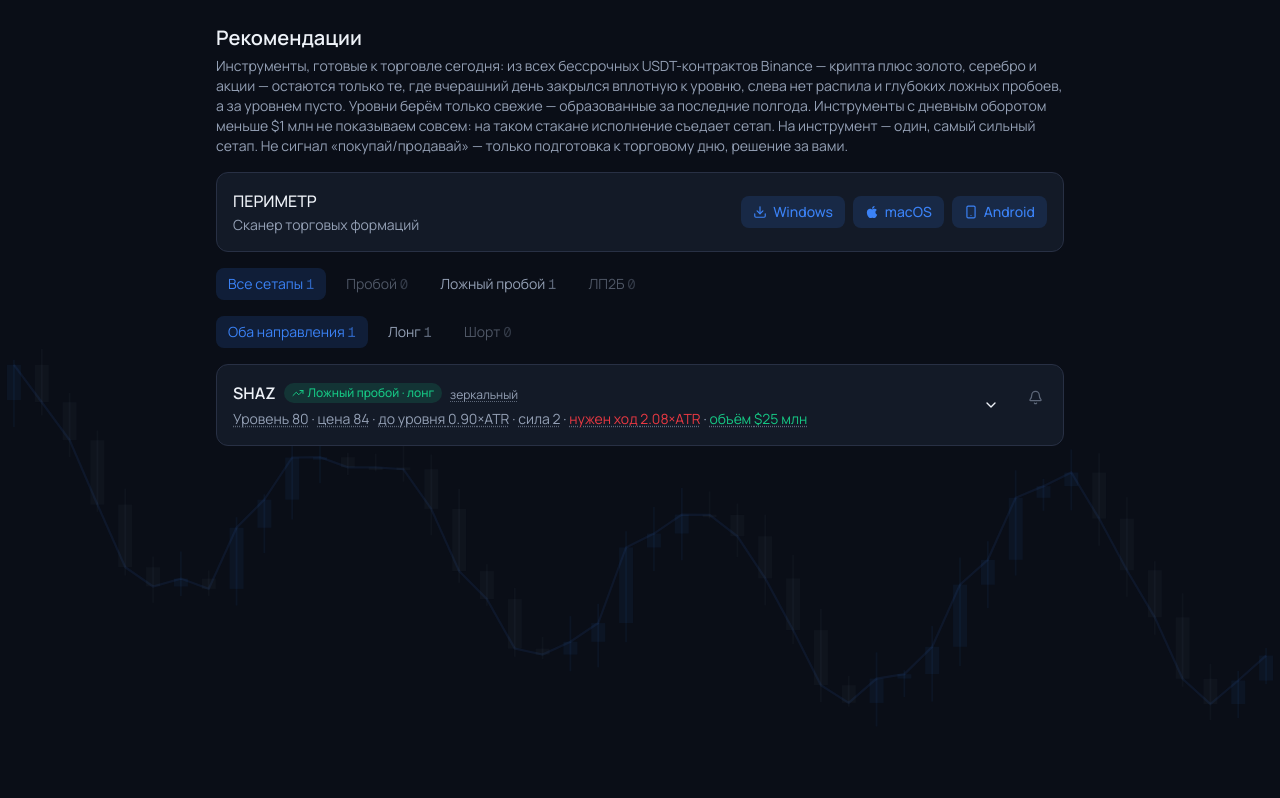
expanded setup card › shows yesterday's pierce instead of claiming there were no false breakouts
This screenshot has width=1280, height=798.
Check: the text "Ложный пробой · лонг" is shown, box top-left (284, 383), bottom-right (442, 403)
What coordinates should you click on to do the following:
click the text "SHAZ"
I would click on:
 (254, 393)
Its box is top-left (233, 381), bottom-right (276, 405).
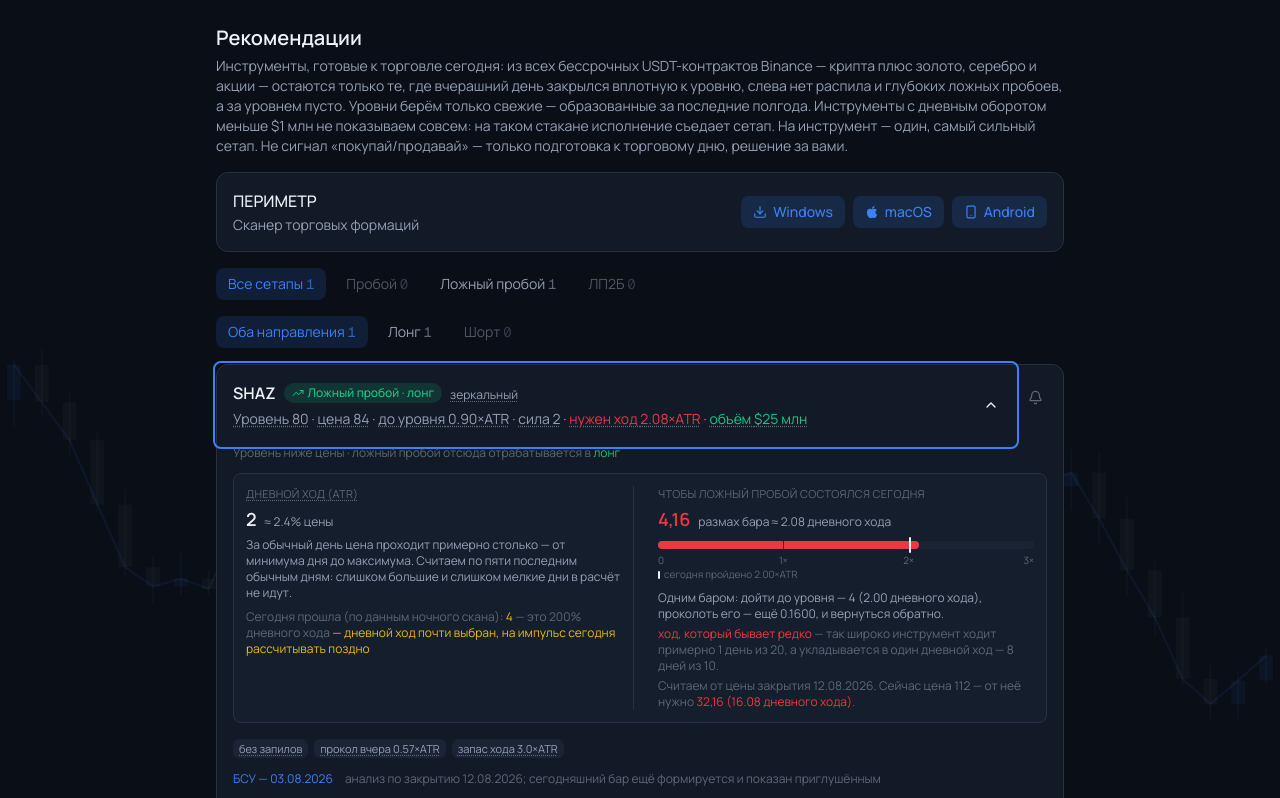
Check: the text "прокол вчера 0.57×ATR" is shown, box top-left (314, 738), bottom-right (446, 758)
